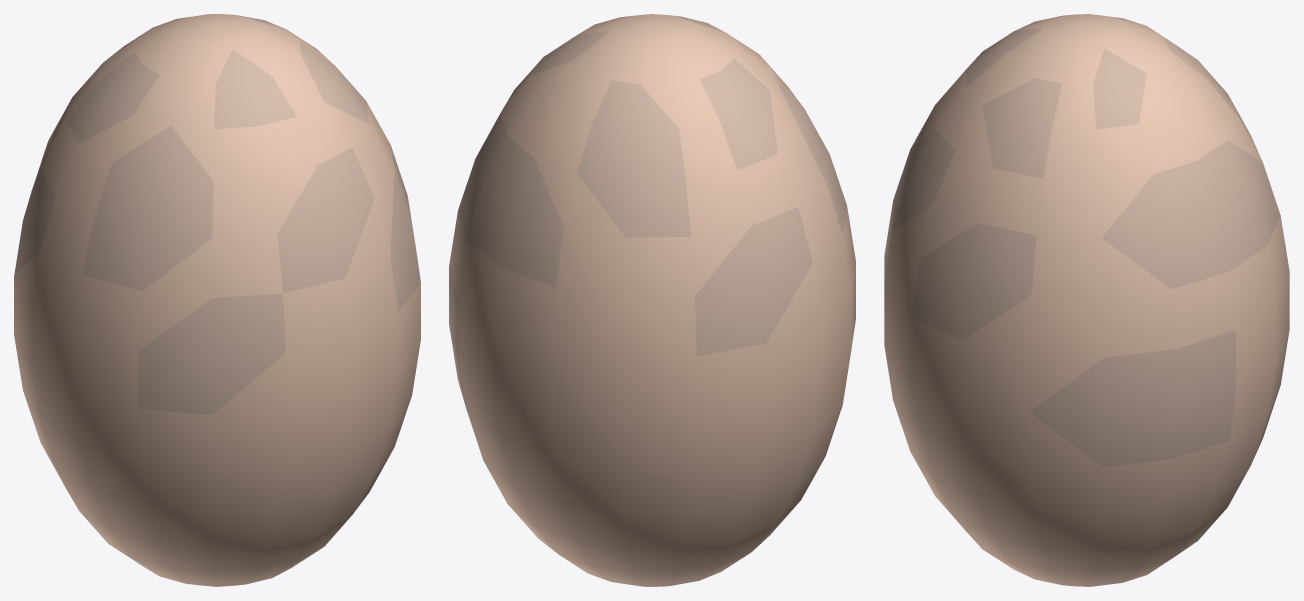
The model's file is Egg.fbx.
3 views of the same model, side by side, from view 1: azimuth 30°, elevation 25°; view 2: azimuth 150°, elevation 25°; view 3: azimuth 270°, elevation 25° (orthographic).
Visible parts, largest first — view 1: Sphere.003; view 2: Sphere.003; view 3: Sphere.003.
Part boxes in pixels (bbox=[...]): Sphere.003: bbox=[14, 14, 420, 586]; Sphere.003: bbox=[449, 14, 855, 586]; Sphere.003: bbox=[884, 14, 1289, 586].
Bounding box in the file's own units: 42.87 × 63.79 × 42.69.
